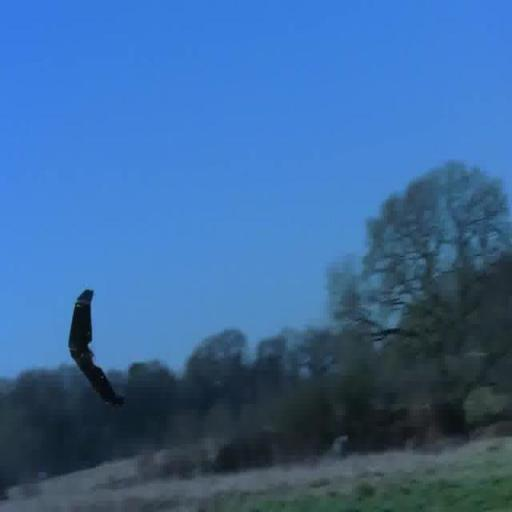uav: (65, 282, 130, 419)
